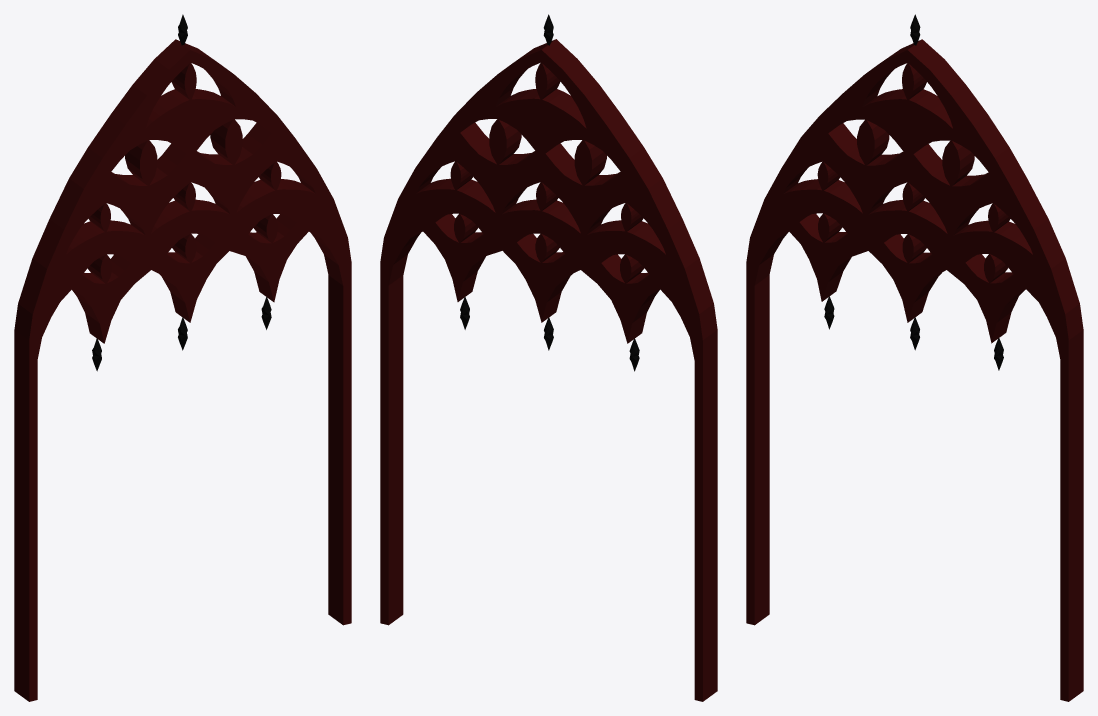
Rendered from Door.fbx.
3 views of the same model, side by side, from view 1: azimuth 30°, elevation 25°; view 2: azimuth 150°, elevation 25°; view 3: azimuth 330°, elevation 25° (orthographic).
Parts seen in each view (by area): view 1: pCube2; view 2: pCube2; view 3: pCube2.
Part boxes in pixels (<box>): pCube2: <box>14,14,351,701</box>; pCube2: <box>380,14,717,701</box>; pCube2: <box>746,14,1083,701</box>.
Size of the model in its own units: 1.81 by 3.45 by 0.1436.
